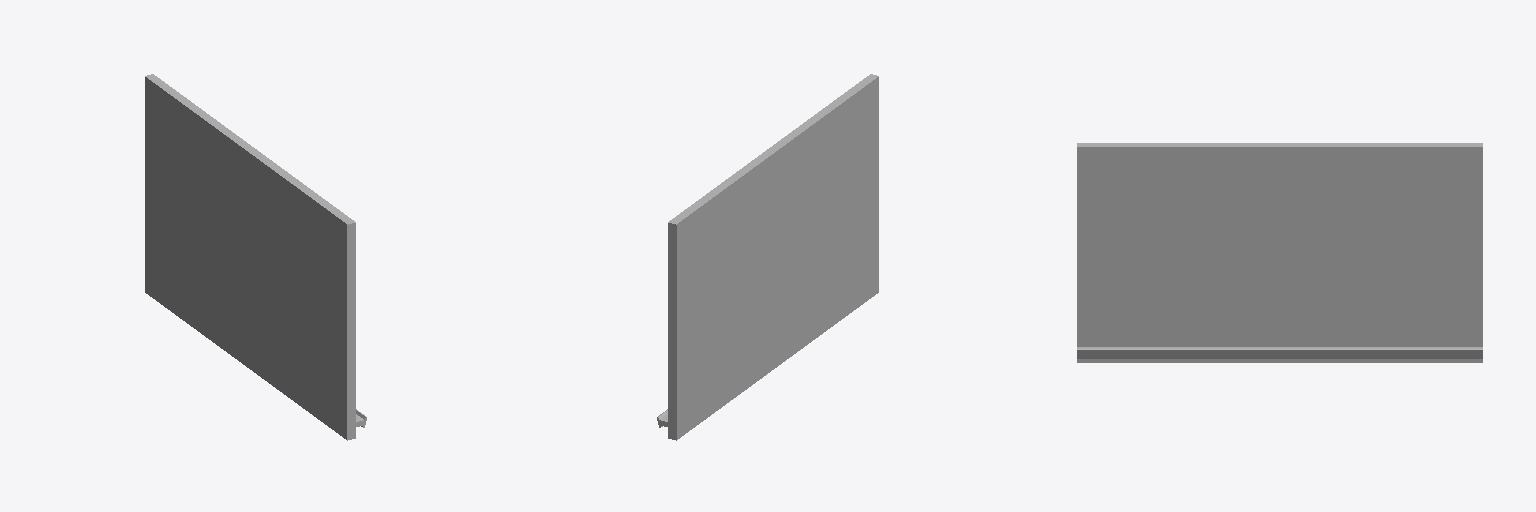
Rendered from dof_rootd_Bb001_r.obj.
The picture shows the model from 3 angles: view 1: azimuth 30°, elevation 25°; view 2: azimuth 150°, elevation 25°; view 3: azimuth 270°, elevation 25°; orthographic projection.
Visible parts, largest first — view 1: rootd_Bb001_object__45_o0_o03_p1_Geometry_0; view 2: rootd_Bb001_object__45_o0_o03_p1_Geometry_0; view 3: rootd_Bb001_object__45_o0_o03_p1_Geometry_0, rootd_Bb001_object__46_o1_o16_p22_Geometry_0, rootd_Bb001_back_faces_of_objec7_o2_o29_p52_Geometry_0.
Part boxes in pixels (x1,y1,x2,y2): rootd_Bb001_object__45_o0_o03_p1_Geometry_0: (145, 74, 355, 440); rootd_Bb001_object__45_o0_o03_p1_Geometry_0: (668, 74, 878, 440); rootd_Bb001_object__45_o0_o03_p1_Geometry_0: (1077, 143, 1482, 362); rootd_Bb001_object__46_o1_o16_p22_Geometry_0: (1077, 347, 1482, 358); rootd_Bb001_back_faces_of_objec7_o2_o29_p52_Geometry_0: (1077, 347, 1482, 358).
Bounding box in the file's own units: 0.0472 × 0.4913 × 0.8353.